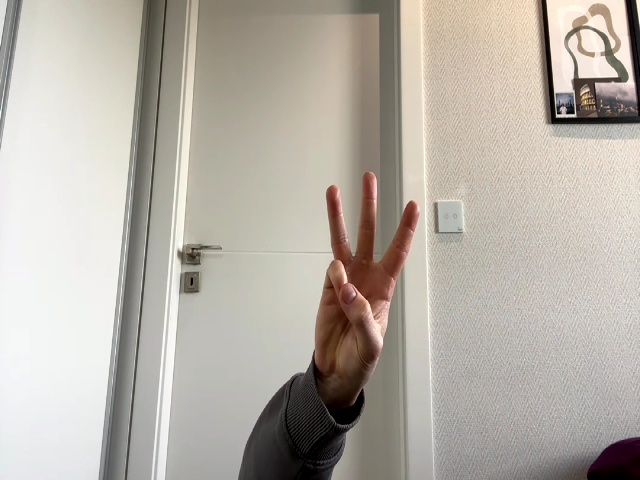W: (316, 172, 420, 382)
